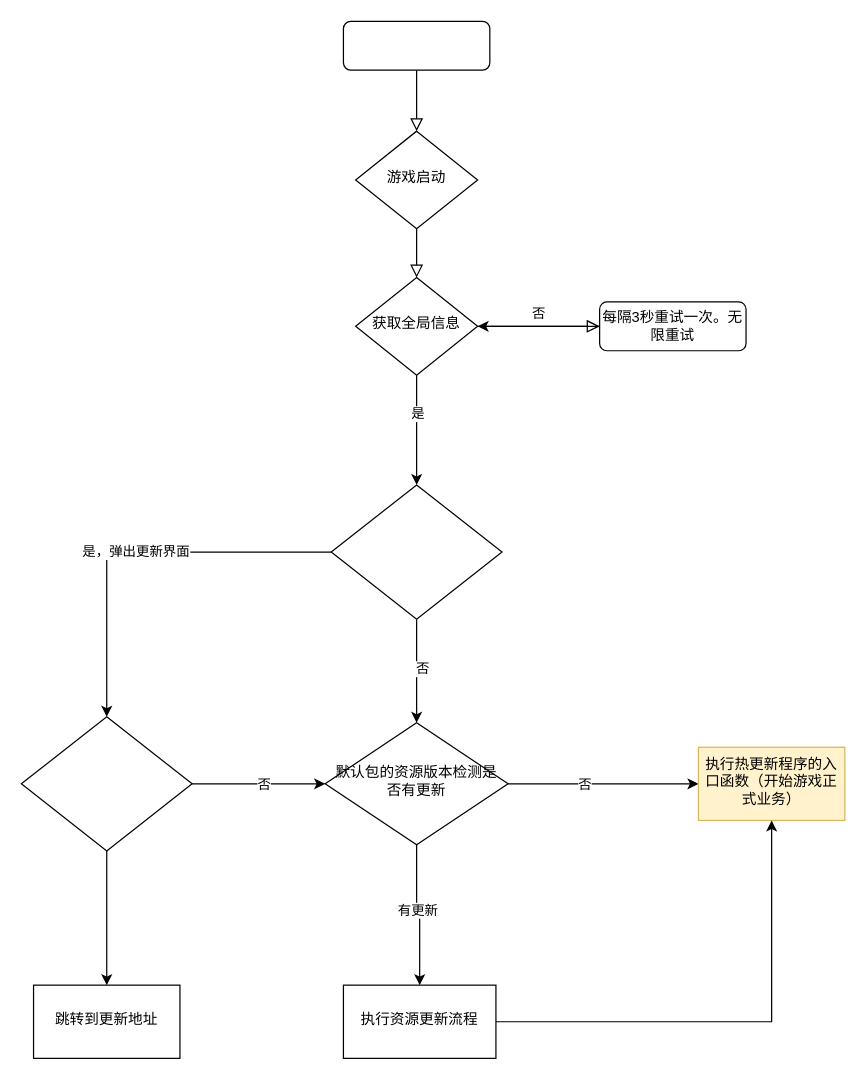
The diagram is 866 pixels wide and 1080 high, and some of its shapes have lost their labels. The shapes that lost their labels are listed below. From the top down, each one's centre as x and y in pixels, then its label:
the point at 416,45: 启动框架
the point at 416,551: 获取到到程序版本。检查是否需要更新
the point at 106,783: 判断是否强制更新
